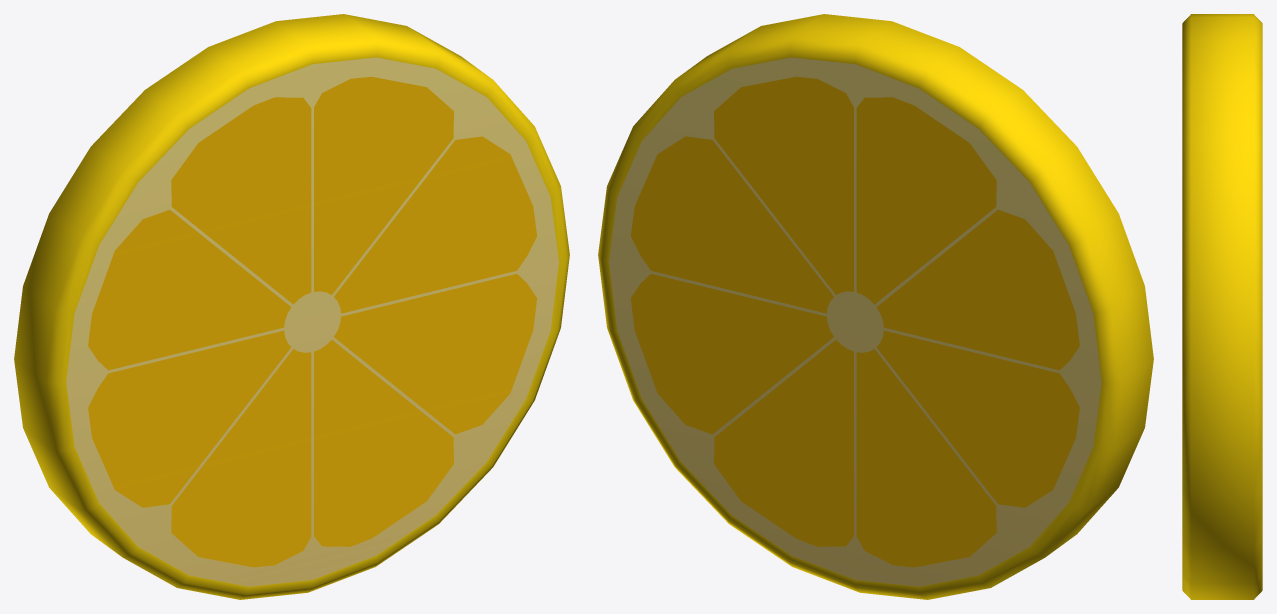
The model's file is Lemon_ring_yellow.fbx.
3 renders of one model, left to right at view 1: azimuth 30°, elevation 25°; view 2: azimuth 150°, elevation 25°; view 3: azimuth 270°, elevation 25°, orthographic. The views are drawn at different scales.
Parts seen in each view (by area): view 1: Lemon_ring_yellow; view 2: Lemon_ring_yellow; view 3: Lemon_ring_yellow.
Boxes of the visible parts, box(x1,y1,x2,y2) form: Lemon_ring_yellow: box(14, 14, 569, 599); Lemon_ring_yellow: box(598, 14, 1153, 599); Lemon_ring_yellow: box(1182, 14, 1262, 599).
Bounding box in the file's own units: 99.64 × 99.64 × 13.61.
